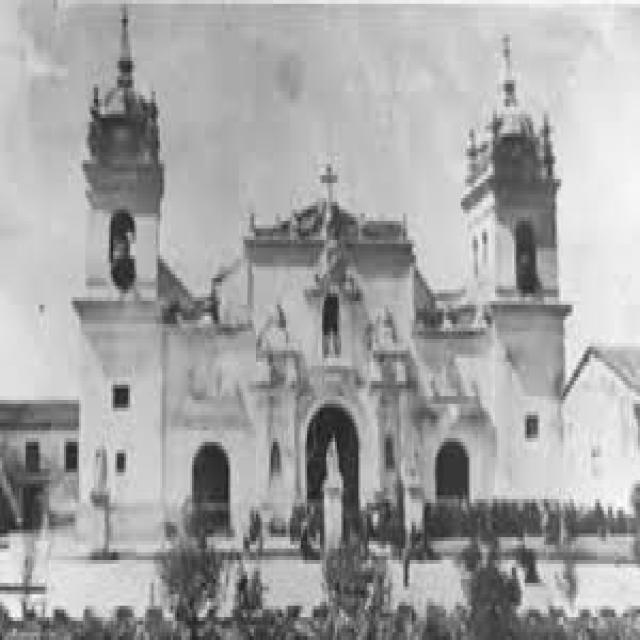6: (37, 0, 179, 543), (436, 14, 569, 536)
CAMPANARIO: (56, 101, 164, 299), (459, 116, 566, 310)
CUPULA: (0, 0, 625, 589)
PORTADA CENTRAL: (82, 66, 168, 145)
SIMETRIA COLONIAL: (261, 292, 416, 540)
colonial-architecture-: (51, 12, 593, 557), (464, 74, 562, 174)
